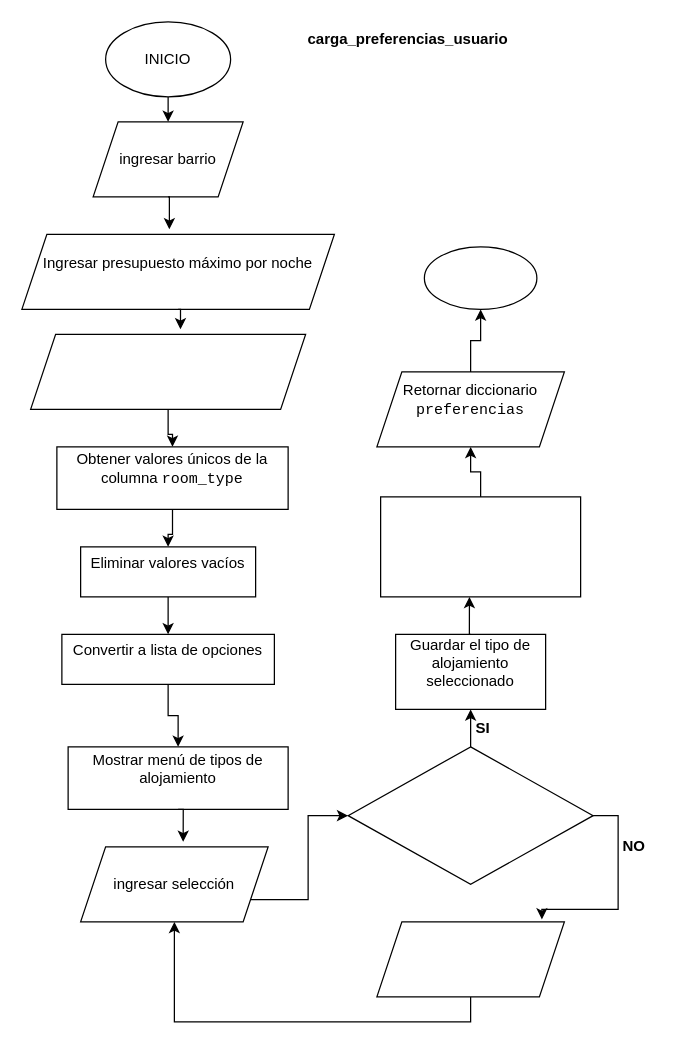
Image size: 681x1054. Some labels were removed from this diagram. The shapes that lost their labels are listed below. From the top down, each one's centre as x and y in pixels, then its label:
the point at 480,277: FIN
the point at 167,371: Ingresar cantidad de noches
the point at 480,546: Crear diccionario preferencias con barrio, precio, noches y tipo de alojamiento
the point at 470,815: ¿La selección es un número entre 1 y len(opciones) ?
the point at 470,959: "Opción inválida"
